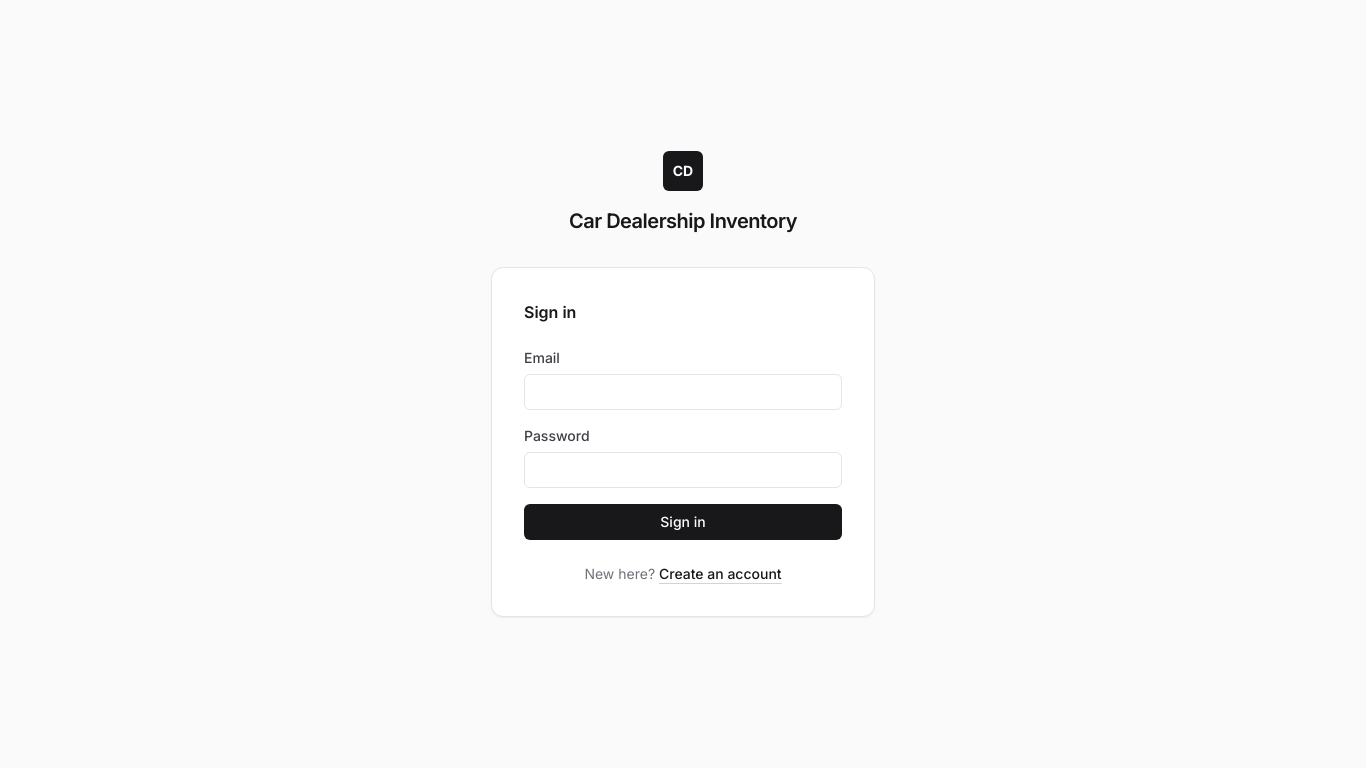
Scenario: App › returns to sign in after logging out
Type "buyer@example.com" into the field labelled "Email" at (683, 392), box [524,374,842,410]
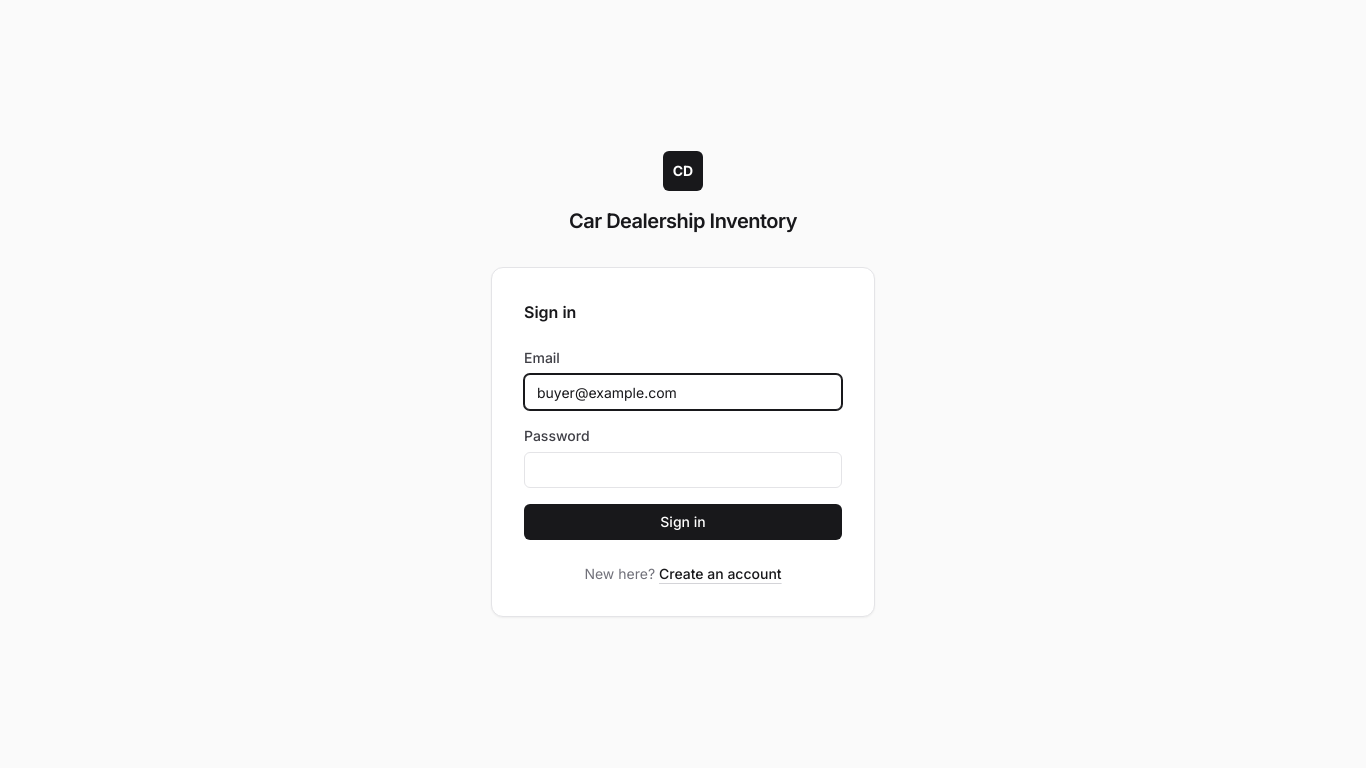
Type "valid-password" into the password field labelled "Password" at (683, 470), box [524,452,842,488]
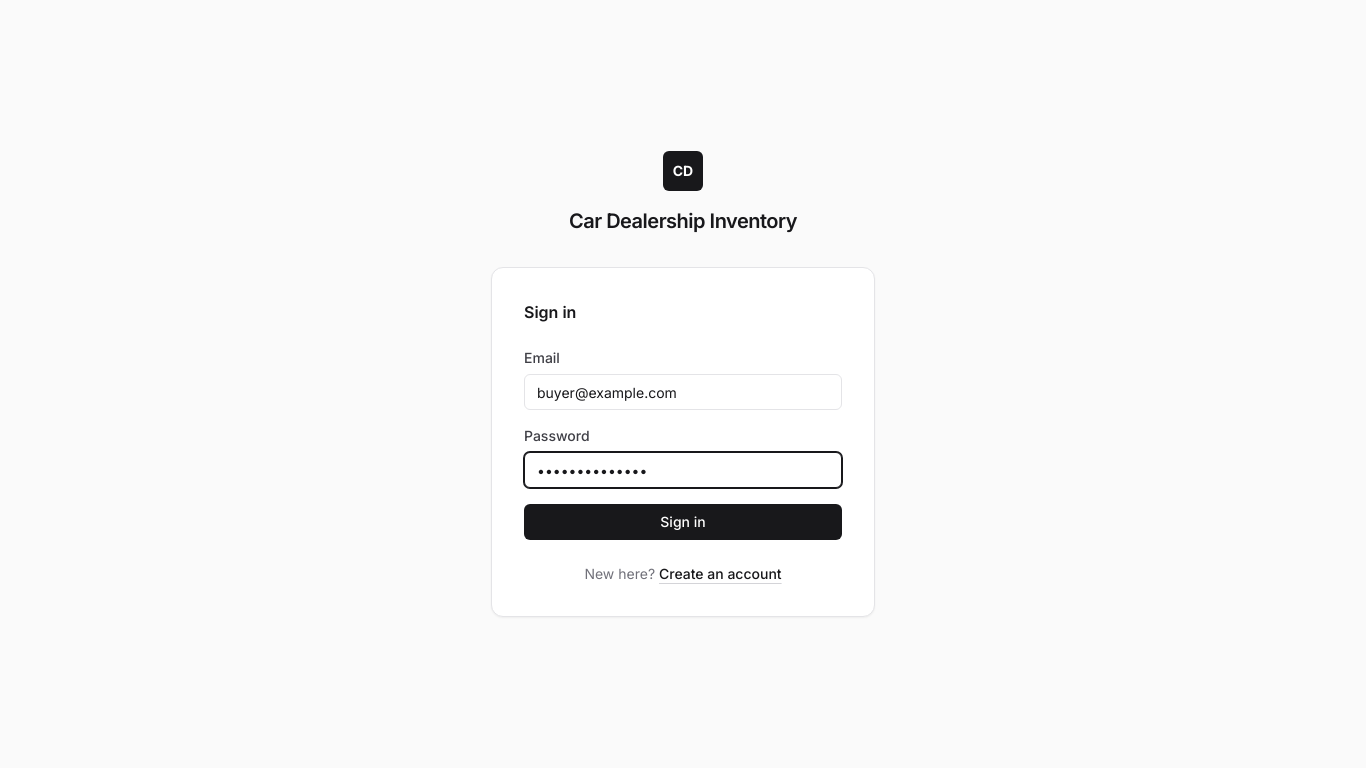
Click the button "Sign in" at (683, 522), box [524,504,842,540]
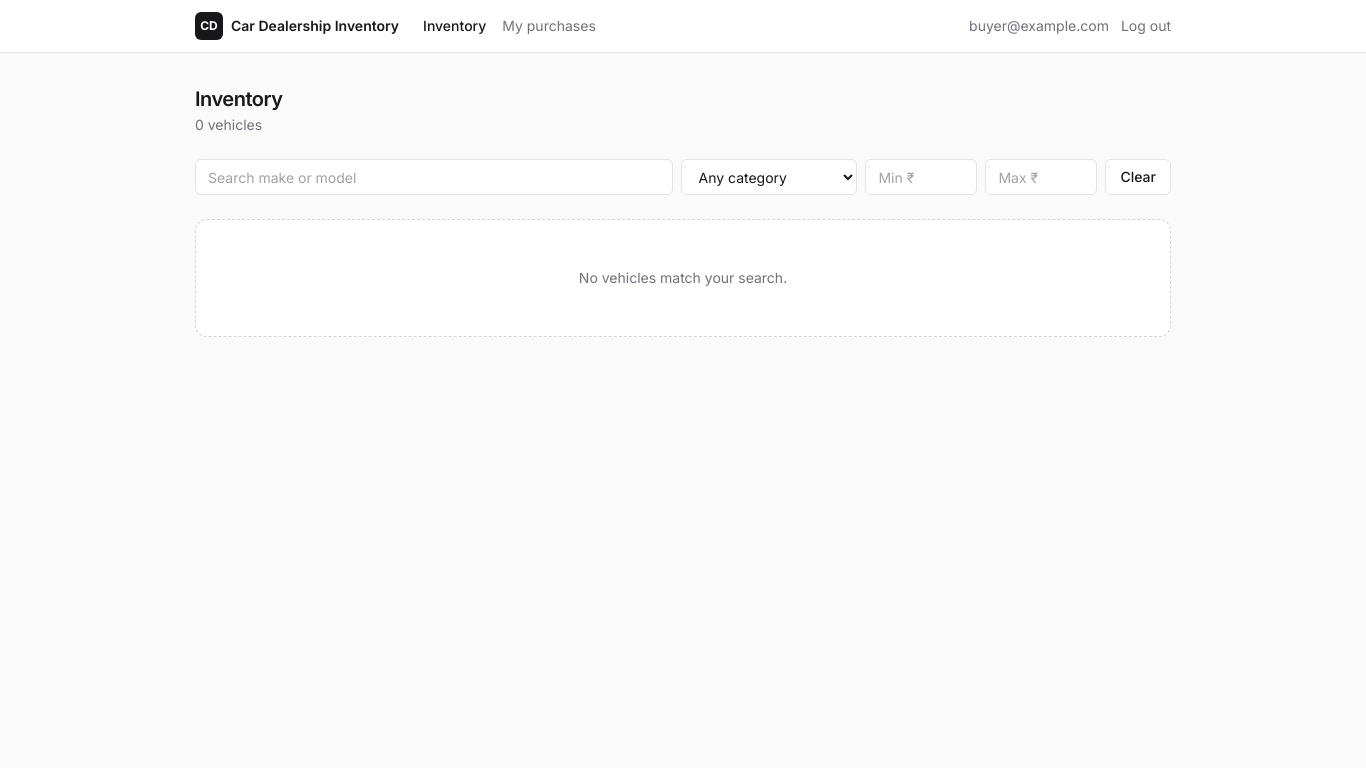
Check: the button "Log out" is shown
Click the button "Log out" at (1146, 26), box [1121,16,1171,36]
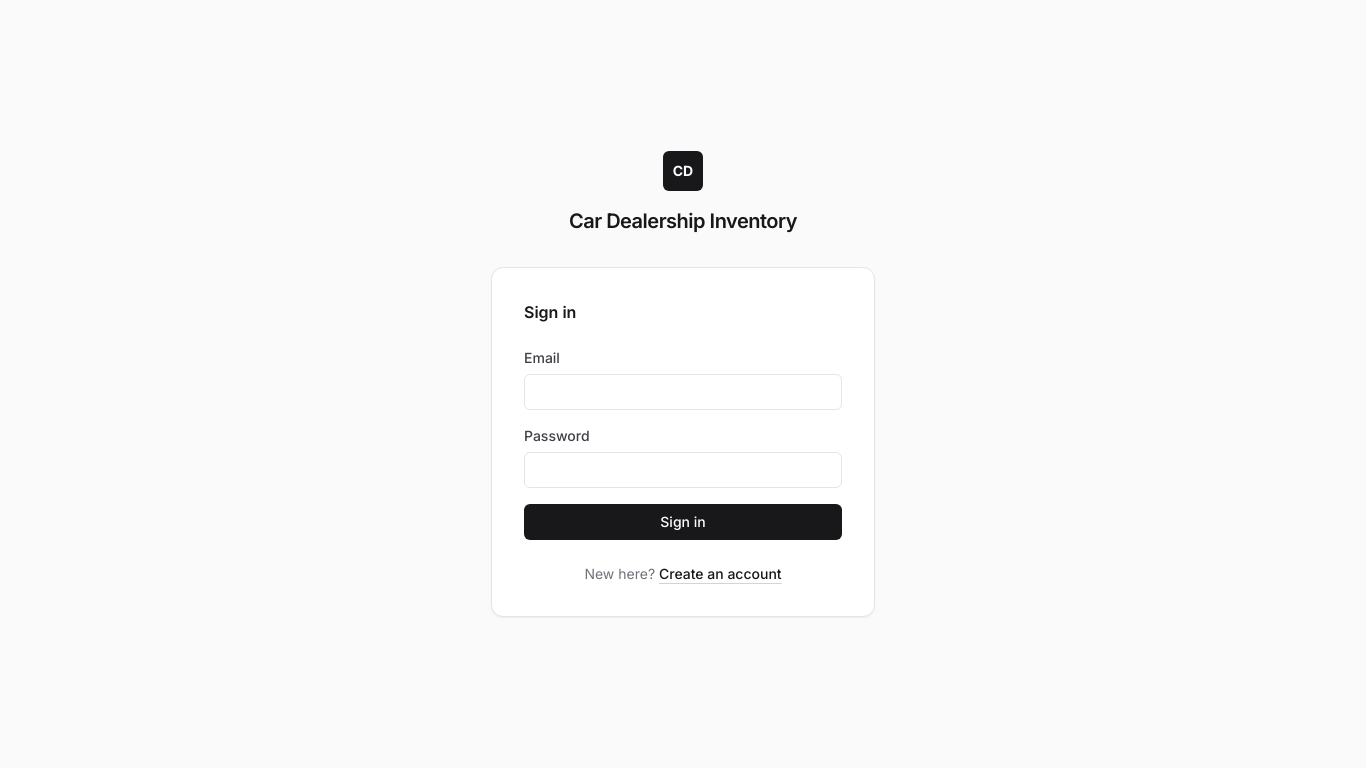
Check: the heading "Sign in" is shown, box [524,302,576,322]
Check: the text "buyer@example.com" is gone
